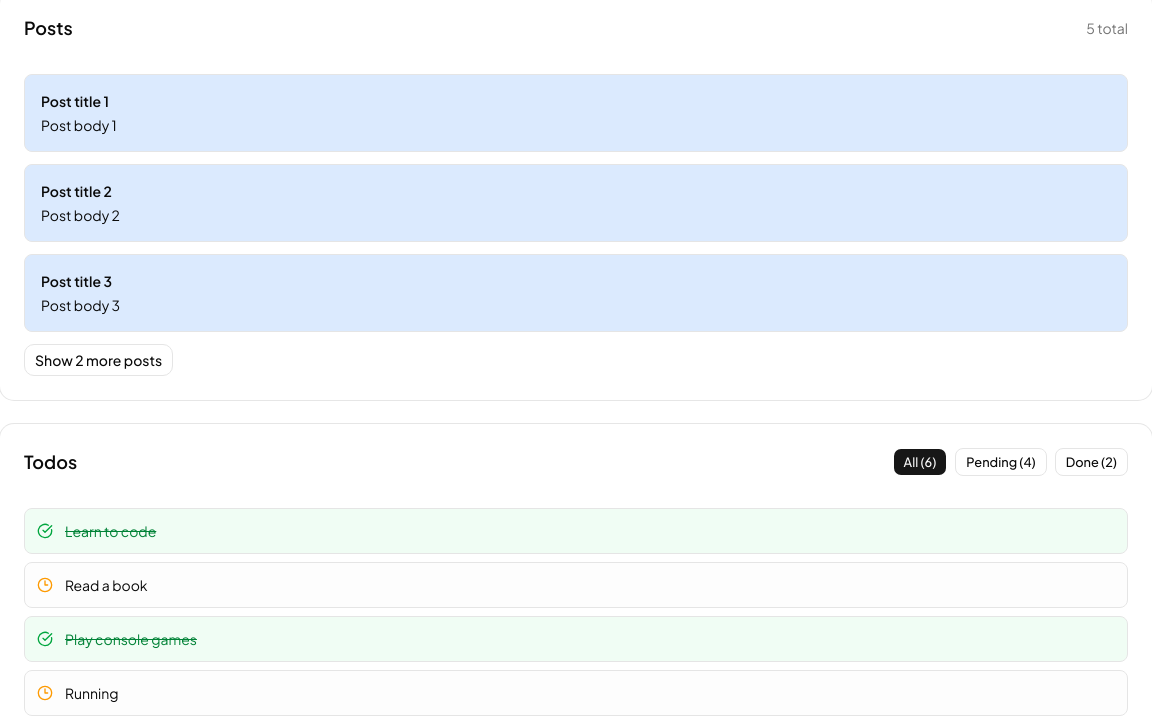
Scenario: User Detail › posts section › collapses posts when show less clicked
(page scrolled)
Click the button "Show 2 more posts".
click(99, 360)  # box [24,344,173,376]
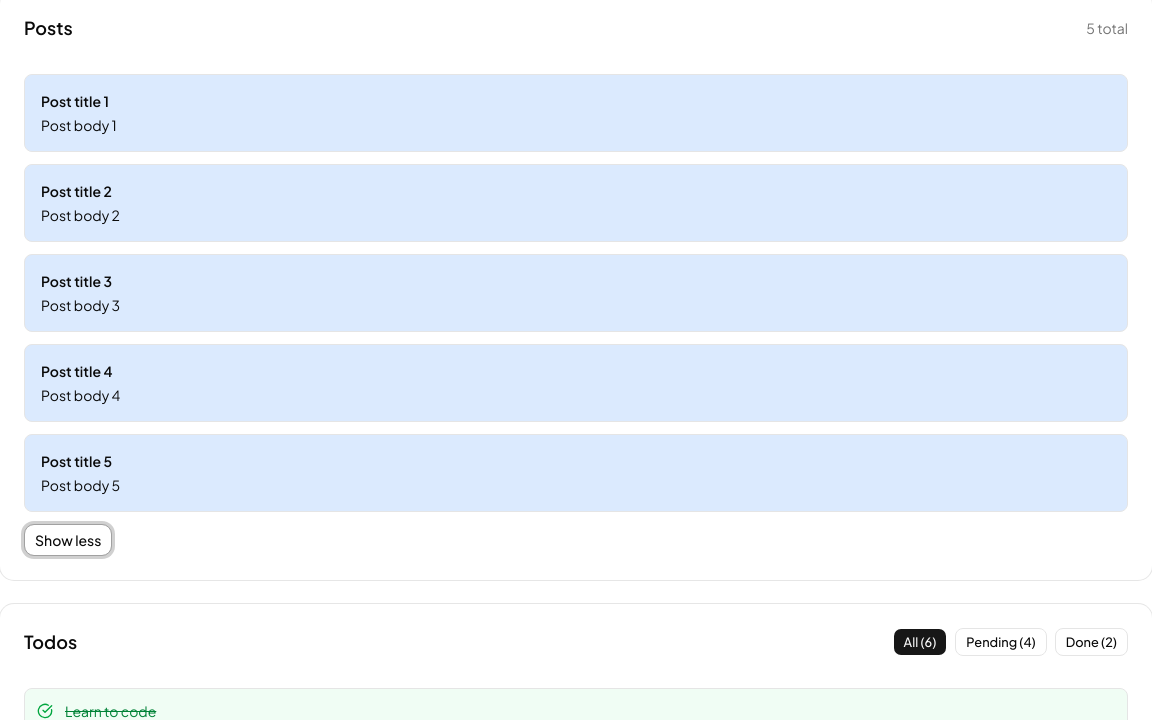
Click the button "Show less".
click(68, 540)  # box [24,524,112,556]
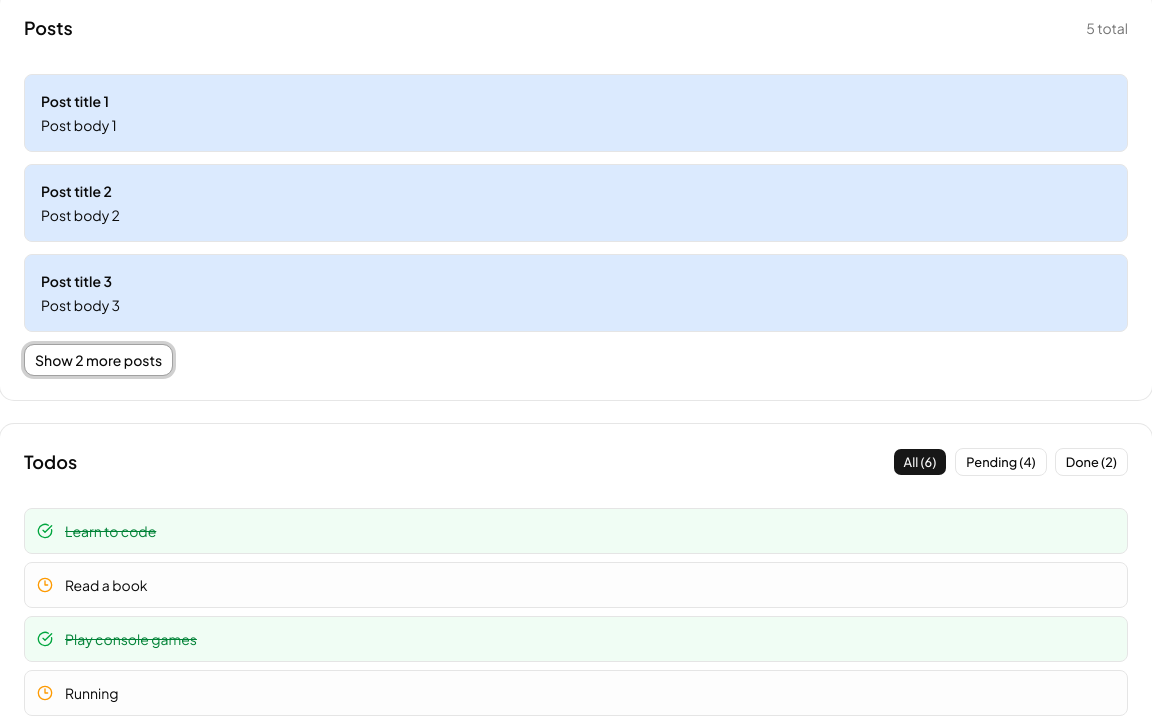
Result: the heading "Post title 4" is gone
